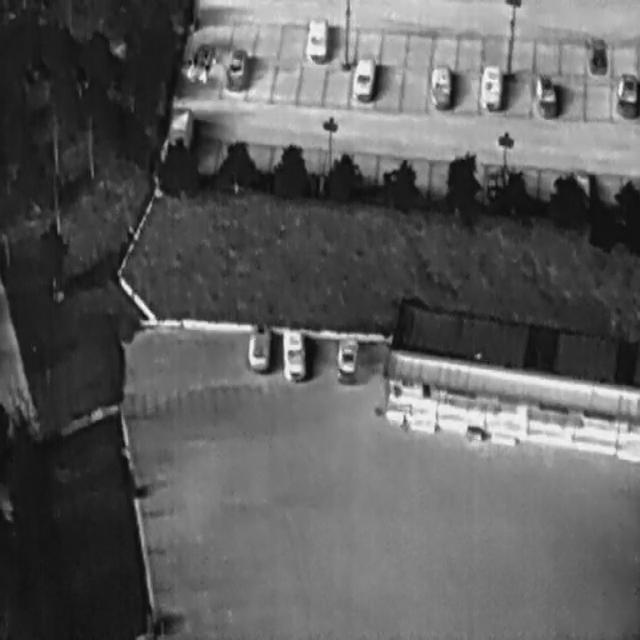Car: (184, 36, 216, 85), (333, 332, 360, 387), (349, 52, 375, 102), (282, 326, 305, 382), (224, 45, 250, 93), (246, 320, 270, 370), (614, 74, 638, 122), (534, 69, 556, 120), (481, 61, 501, 112), (429, 63, 450, 109), (305, 15, 324, 63), (587, 31, 607, 75)
